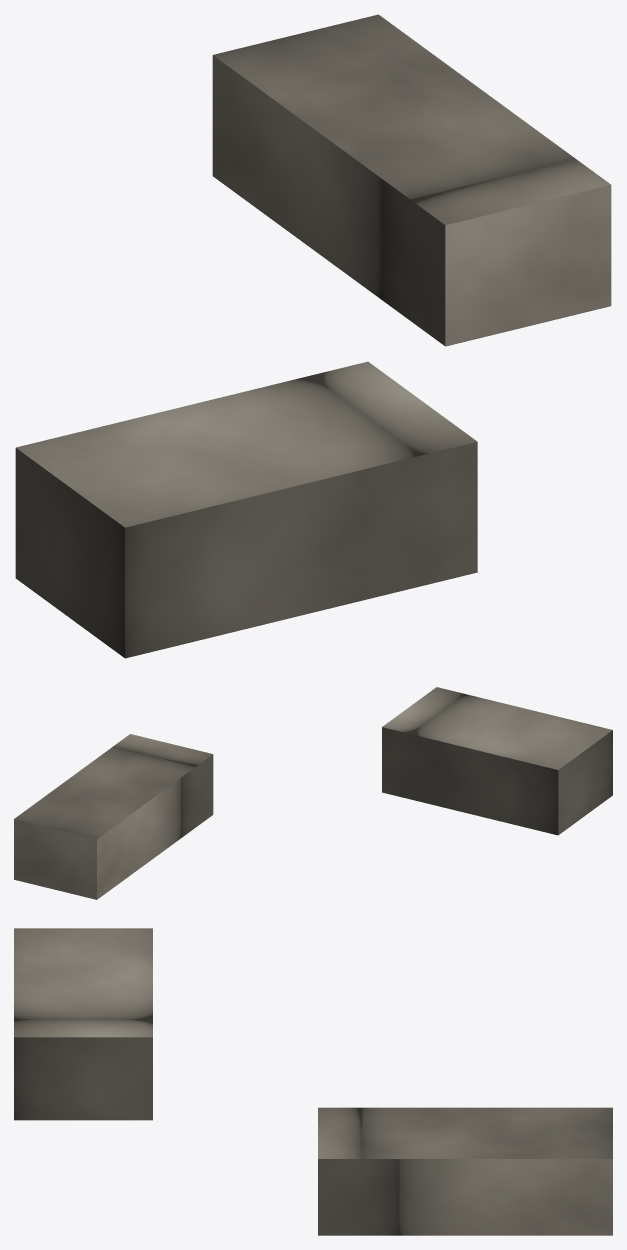
Rendered from Prop_ExteriorBorder_Corner_LOD2.gltf.
3 renders of one model, top to bottom at view 1: azimuth 30°, elevation 25°; view 2: azimuth 150°, elevation 25°; view 3: azimuth 270°, elevation 25°, orthographic. The views are drawn at different scales.
Parts seen in each view (by area): view 1: Prop_ExteriorBorder_Corner_LOD2; view 2: Prop_ExteriorBorder_Corner_LOD2; view 3: Prop_ExteriorBorder_Corner_LOD2.
Boxes of the visible parts, <box> form: Prop_ExteriorBorder_Corner_LOD2: <box>15,14,611,658</box>; Prop_ExteriorBorder_Corner_LOD2: <box>14,687,612,899</box>; Prop_ExteriorBorder_Corner_LOD2: <box>14,928,612,1235</box>.
Bounding box in the file's own units: 0.7 × 0.1206 × 0.7889.
Materials: 1 (1 with a texture image).
